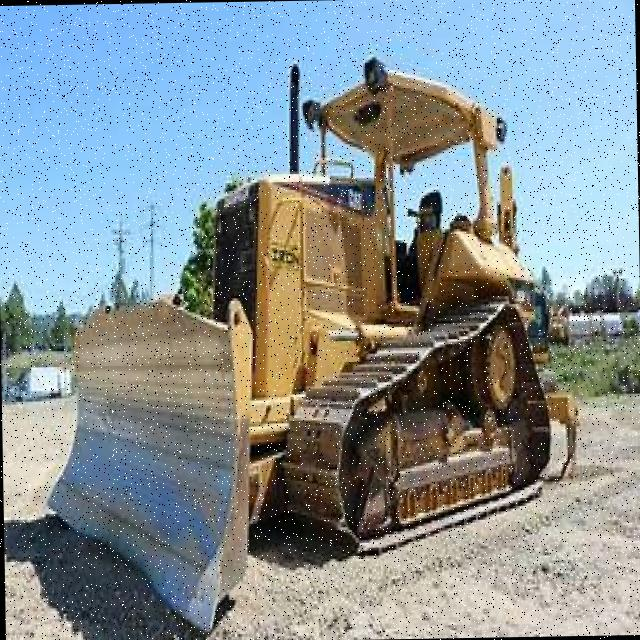Bulldozer: (39, 48, 582, 610)
